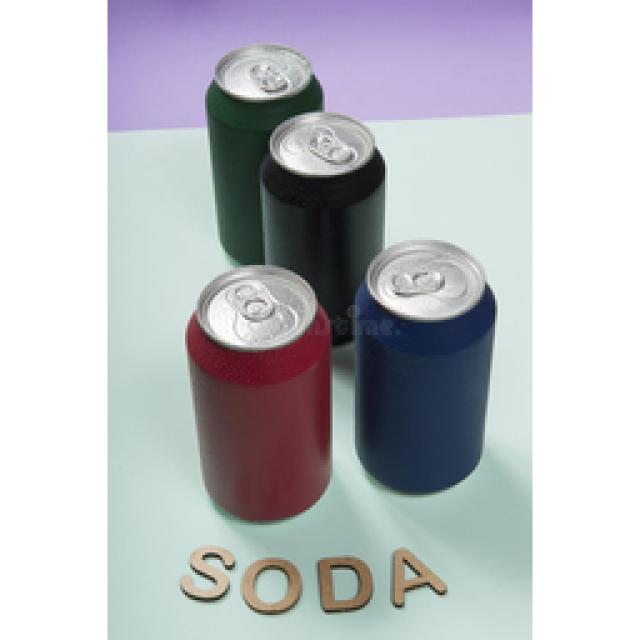aluminum_soda_cans: (188, 272, 337, 526), (363, 242, 500, 498), (265, 121, 378, 262), (200, 40, 325, 115)
